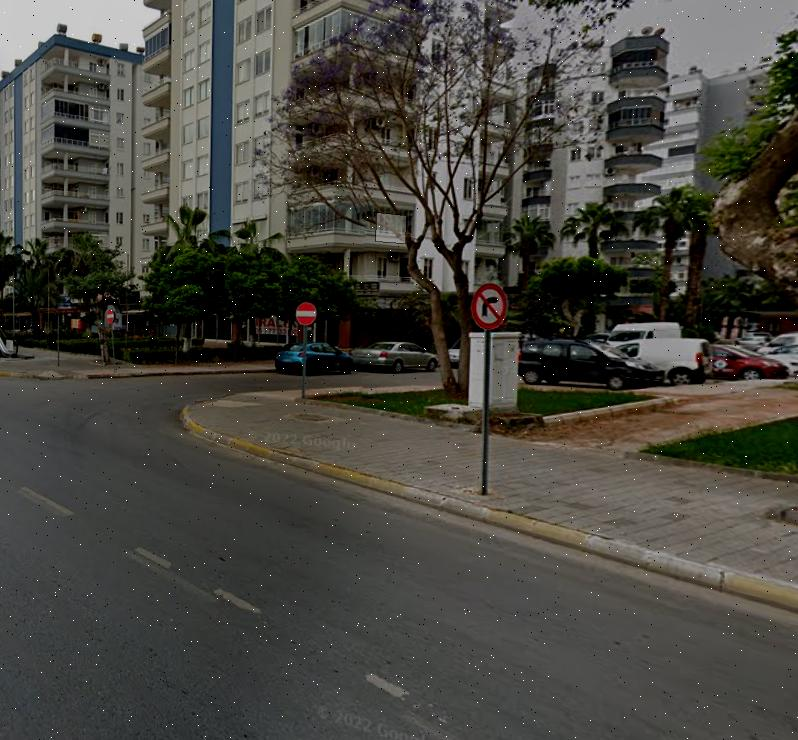rightturnsareforbidden: (472, 285, 508, 327)
